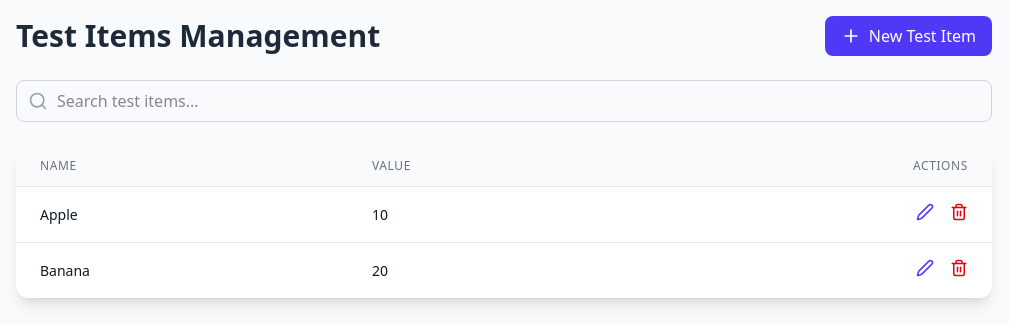
Test case: CrudManager › filters items based on search
The image size is (1009, 324).
Expected: the text "Apple" is shown, [16,186,348,242]
In the field with placeholder "Search test items...": (504, 101) [16,80,992,122], type "Ban"
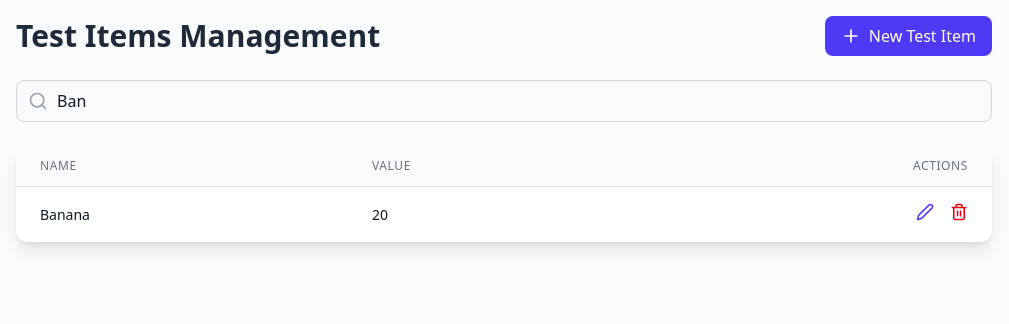
Expected: the text "Banana" is shown, [16,186,348,242]
Expected: the text "Apple" is gone
